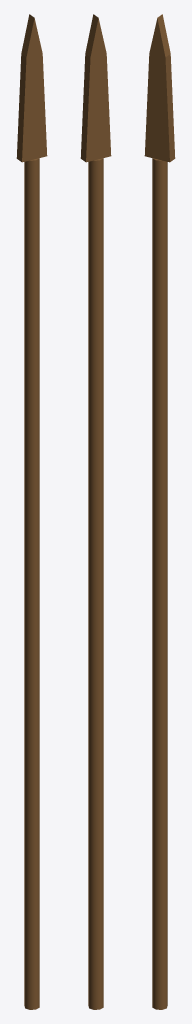
File: shanidar-spear.glb
The picture shows the model from 3 angles, left to right: view 1: azimuth 30°, elevation 25°; view 2: azimuth 210°, elevation 25°; view 3: azimuth 330°, elevation 25°; orthographic projection.
Parts seen in each view (by area): view 1: Shaft, Blade; view 2: Shaft, Blade; view 3: Shaft, Blade.
Boxes of the visible parts, x1,y1,x2,y2 form: Shaft: (24,158,39,1009); Blade: (16,14,47,162); Shaft: (88,158,103,1009); Blade: (80,14,111,162); Shaft: (152,158,167,1009); Blade: (144,14,175,162).
Bounding box in the file's own units: 0.056 × 2.1 × 0.03.
